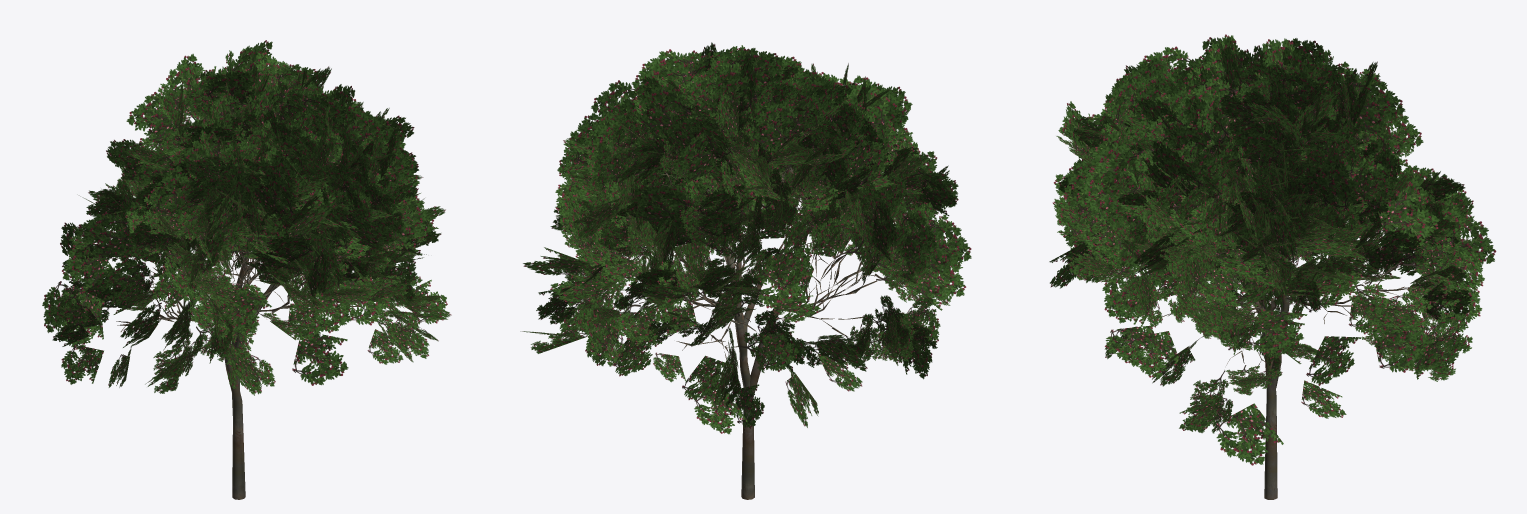
Rendered from cherry_tree.glb.
The picture shows the model from 3 angles, left to right: view 1: azimuth 30°, elevation 25°; view 2: azimuth 150°, elevation 25°; view 3: azimuth 270°, elevation 25°; orthographic projection. The views are drawn at different scales.
Visible parts, largest first — view 1: Object_10; view 2: Object_10; view 3: Object_10.
Boxes of the visible parts, <box> form: Object_10: <box>42,40,451,499</box>; Object_10: <box>520,42,971,499</box>; Object_10: <box>1049,34,1496,499</box>.
Bounding box in the file's own units: 9.32 × 9.78 × 9.15.
Materials: 2 (2 with a texture image).
